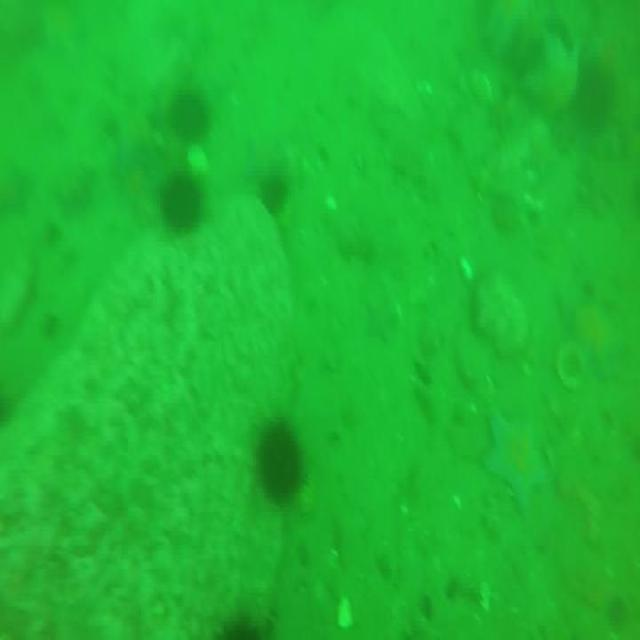echinus: (259, 412, 305, 506), (159, 171, 202, 234), (167, 89, 210, 138), (260, 169, 290, 215)
scallop: (554, 335, 586, 390)
starfish: (485, 411, 547, 510), (367, 300, 396, 342)
